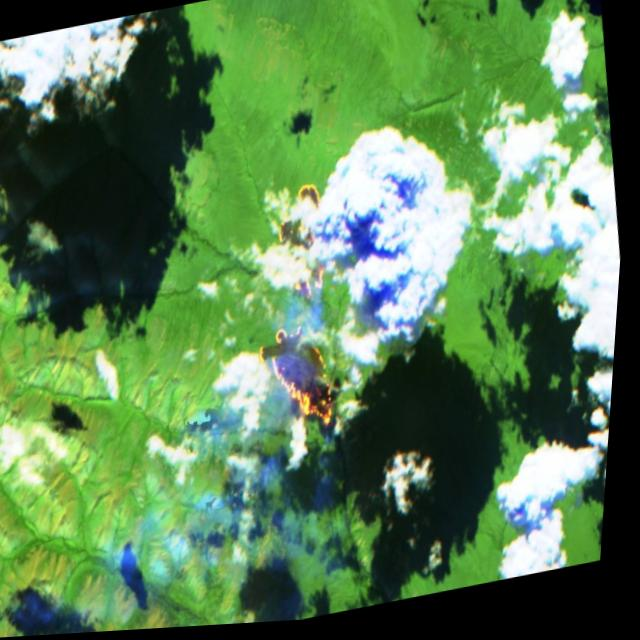fire: (236, 181, 362, 446)
